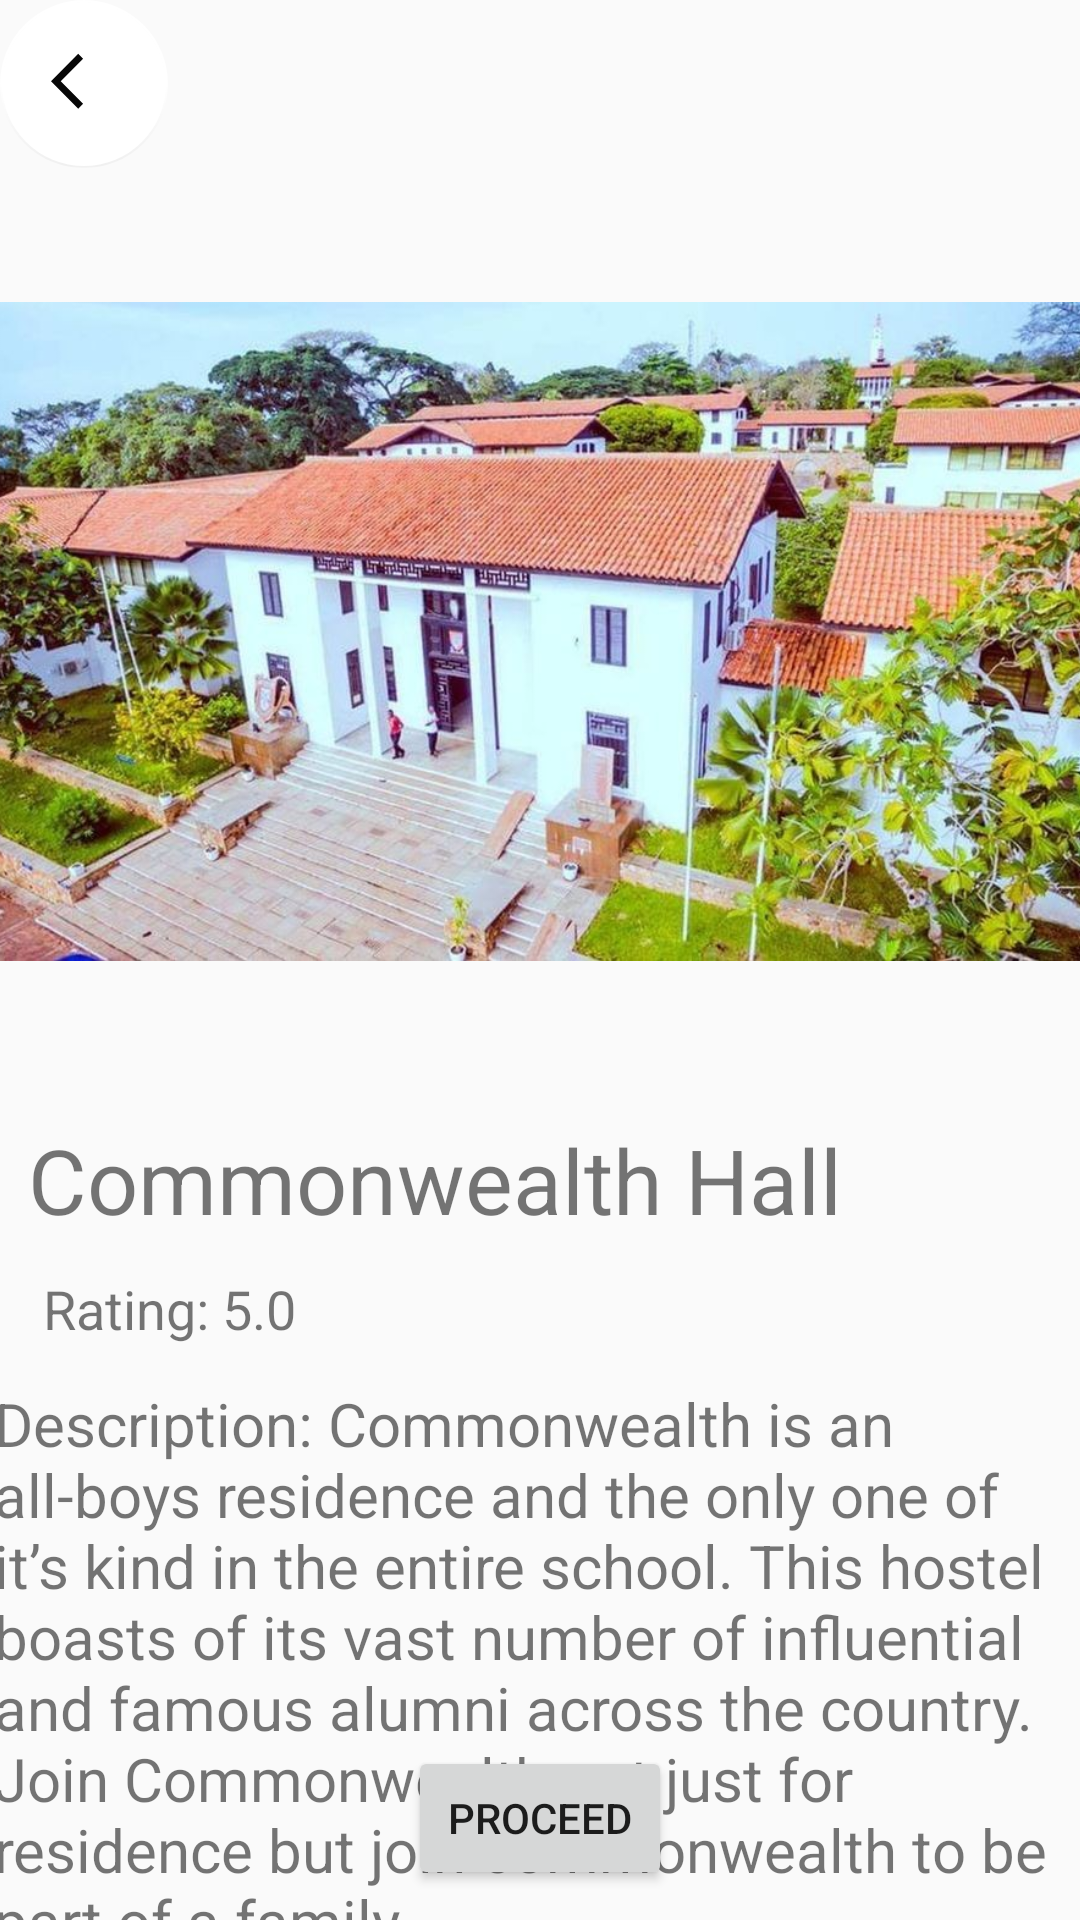

Screen size 1080 x 1920. Icon name, then its box in pixels as (x1, y1, x2, y2):
backw: (51, 54, 83, 109)
